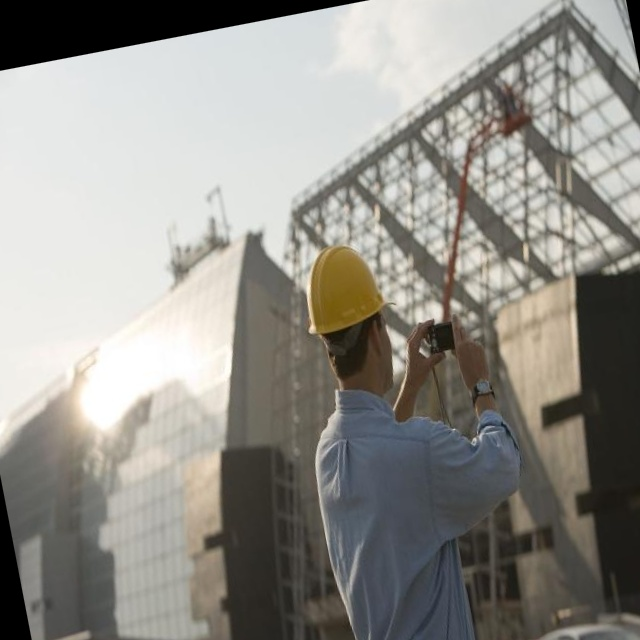Sin_Casco_Mascarrilla: (295, 235, 410, 389)
Sin_Chaleco: (301, 395, 471, 640)
